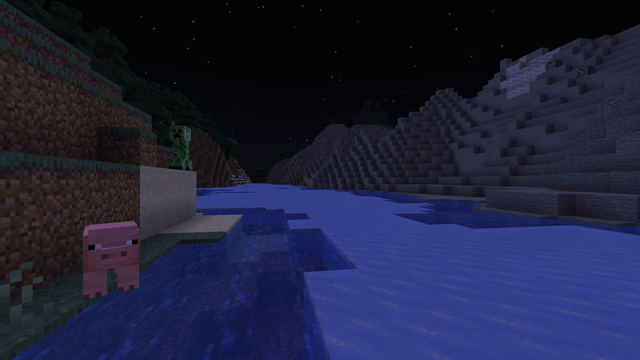cochons: (53, 220, 156, 298)
creepers: (168, 123, 190, 170)
